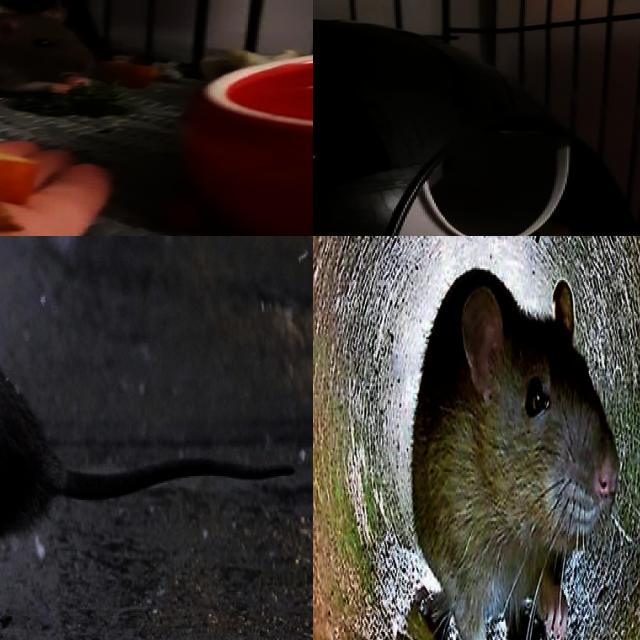rat: (0, 324, 302, 634), (412, 264, 621, 640), (0, 1, 99, 101)
